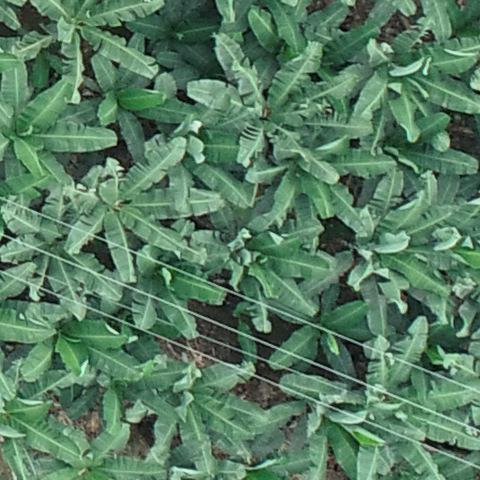Banana-plant: (340, 315, 480, 480), (68, 136, 220, 267), (186, 30, 324, 165), (338, 19, 480, 147), (328, 170, 452, 311), (0, 62, 118, 196), (11, 0, 165, 101), (74, 30, 195, 157), (0, 192, 121, 316), (137, 356, 267, 469), (198, 212, 326, 323), (244, 143, 400, 216), (250, 2, 380, 85), (270, 284, 376, 385), (117, 245, 225, 344), (276, 369, 372, 480), (0, 362, 83, 477), (16, 304, 123, 383), (34, 419, 163, 480), (131, 5, 221, 84)
